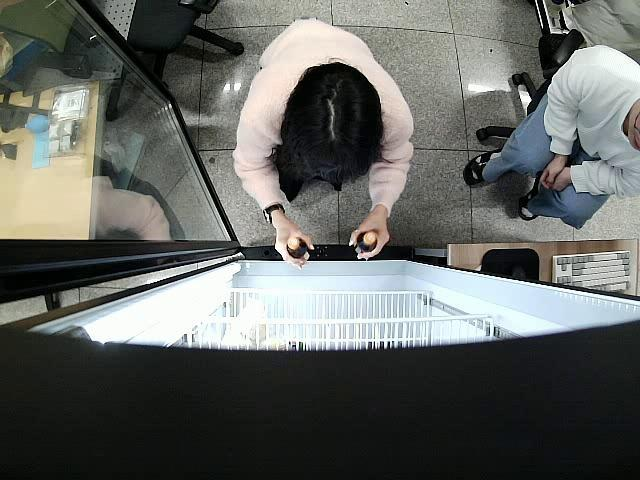17_vita500: (354, 230, 382, 256), (285, 235, 311, 262)
